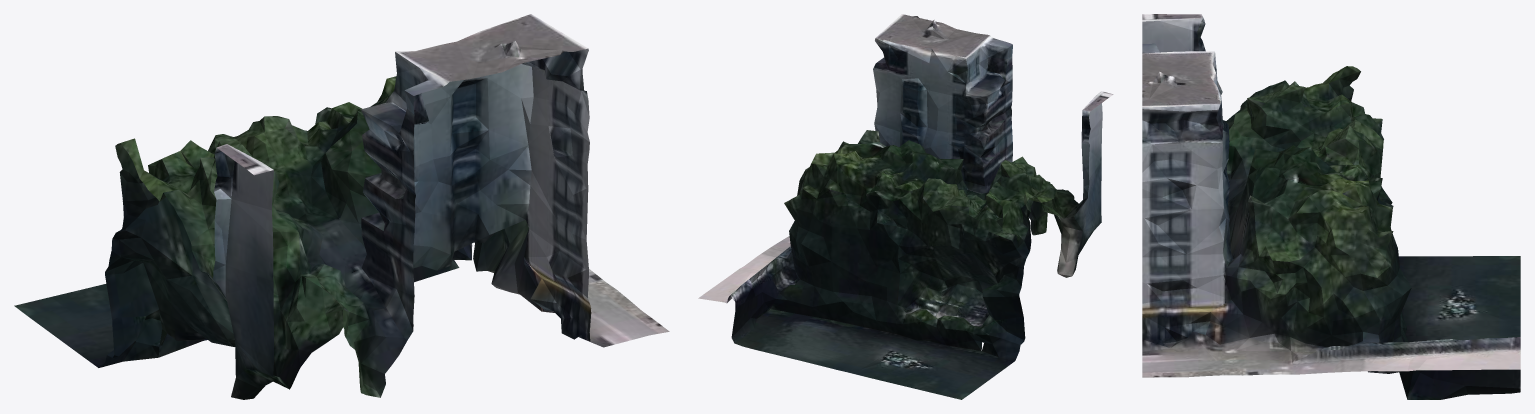
The model's file is helsinki-1-2.glb.
3 renders of one model, left to right at view 1: azimuth 30°, elevation 25°; view 2: azimuth 150°, elevation 25°; view 3: azimuth 270°, elevation 25°, orthographic. The views are drawn at different scales.
Bounding box in the file's own units: 31.75 × 26.83 × 31.75.
Materials: 1 (1 with a texture image).
